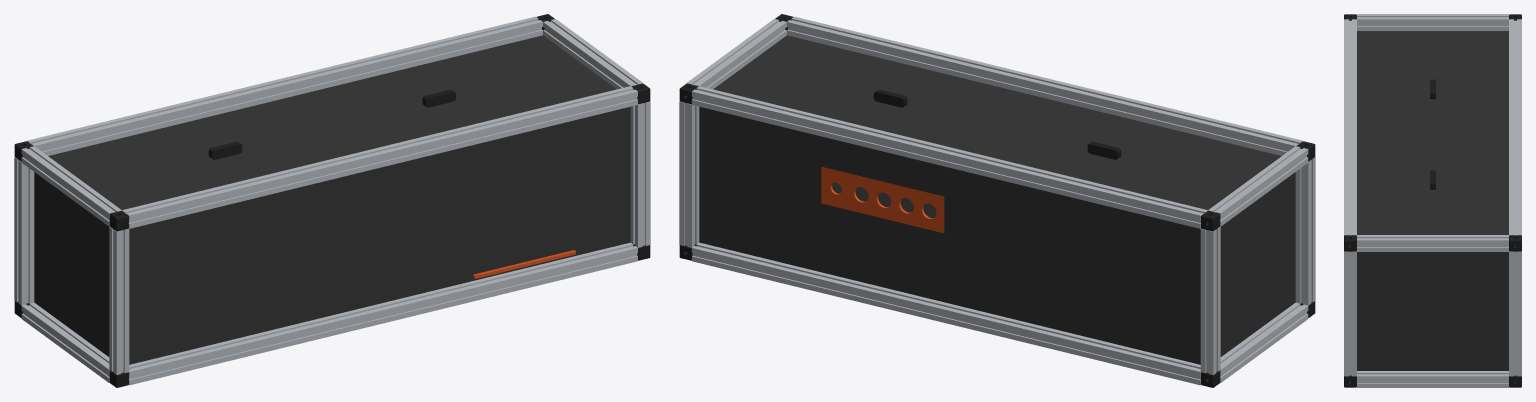
Rendered from cage.glb.
The picture shows the model from 3 angles, left to right: view 1: azimuth 30°, elevation 25°; view 2: azimuth 150°, elevation 25°; view 3: azimuth 270°, elevation 25°; orthographic projection. The views are drawn at different scales.
Parts seen in each view (by area): view 1: panel_side_outboard, lid_panel, bar_x_0_297, bar_x_0_0, bar_x_327_297, panel_end_icebox, bar_z_0_0, bar_z_1037_0, bar_z_0_327, bar_y_0_297, bar_y_0_0, bar_y_1037_297 (+3 smaller); view 2: panel_side_inboard, lid_panel, bar_x_327_297, bar_x_327_0, bar_x_0_297, panel_end_icebox, print_socket_panel, bar_z_0_327, bar_z_1037_327, bar_z_0_0, bar_y_0_297, bar_y_0_0 (+3 smaller); view 3: lid_panel, panel_end_far, bar_x_0_297, bar_x_327_297, bar_y_0_297, bar_y_1037_0, bar_y_1037_297, bar_z_1037_0, bar_z_1037_327, panel_side_inboard, panel_side_outboard, panel_floor (+3 smaller).
Boxes of the visible parts, box(x1,y1,x2,y2) form: panel_side_outboard: box(129, 106, 630, 364); lid_panel: box(48, 35, 613, 209); bar_x_0_297: box(122, 86, 637, 228); bar_x_0_0: box(129, 242, 637, 385); bar_x_327_297: box(27, 16, 542, 155); panel_end_icebox: box(36, 173, 109, 356); bar_z_0_0: box(109, 226, 129, 374); bar_z_1037_0: box(630, 101, 650, 247); bar_z_0_327: box(14, 157, 34, 305); bar_y_0_297: box(21, 146, 121, 226); bar_y_0_0: box(21, 302, 109, 382); bar_y_1037_297: box(543, 19, 643, 89); panel_side_inboard: box(699, 106, 1200, 364); lid_panel: box(713, 36, 1280, 209); bar_x_327_297: box(692, 86, 1207, 228); bar_x_327_0: box(692, 242, 1200, 385); bar_x_0_297: box(787, 16, 1302, 155); panel_end_icebox: box(1220, 173, 1293, 353); print_socket_panel: box(821, 166, 944, 233); bar_z_0_327: box(1200, 226, 1220, 374); bar_z_1037_327: box(679, 101, 699, 247); bar_z_0_0: box(1295, 157, 1315, 305); bar_y_0_297: box(1208, 146, 1308, 226); bar_y_0_0: box(1220, 302, 1308, 382); lid_panel: box(1357, 31, 1508, 234); panel_end_far: box(1360, 252, 1505, 370); bar_x_0_297: box(1344, 19, 1356, 235); bar_x_327_297: box(1509, 19, 1521, 235); bar_y_0_297: box(1357, 14, 1508, 30); bar_y_1037_0: box(1357, 371, 1508, 387); bar_y_1037_297: box(1357, 235, 1508, 251); bar_z_1037_0: box(1344, 251, 1356, 376); bar_z_1037_327: box(1509, 251, 1521, 376); panel_side_inboard: box(1506, 31, 1508, 370); panel_side_outboard: box(1357, 31, 1359, 370); panel_floor: box(1357, 368, 1508, 370).
Size of the model in its own units: 1063 by 323 by 353.
